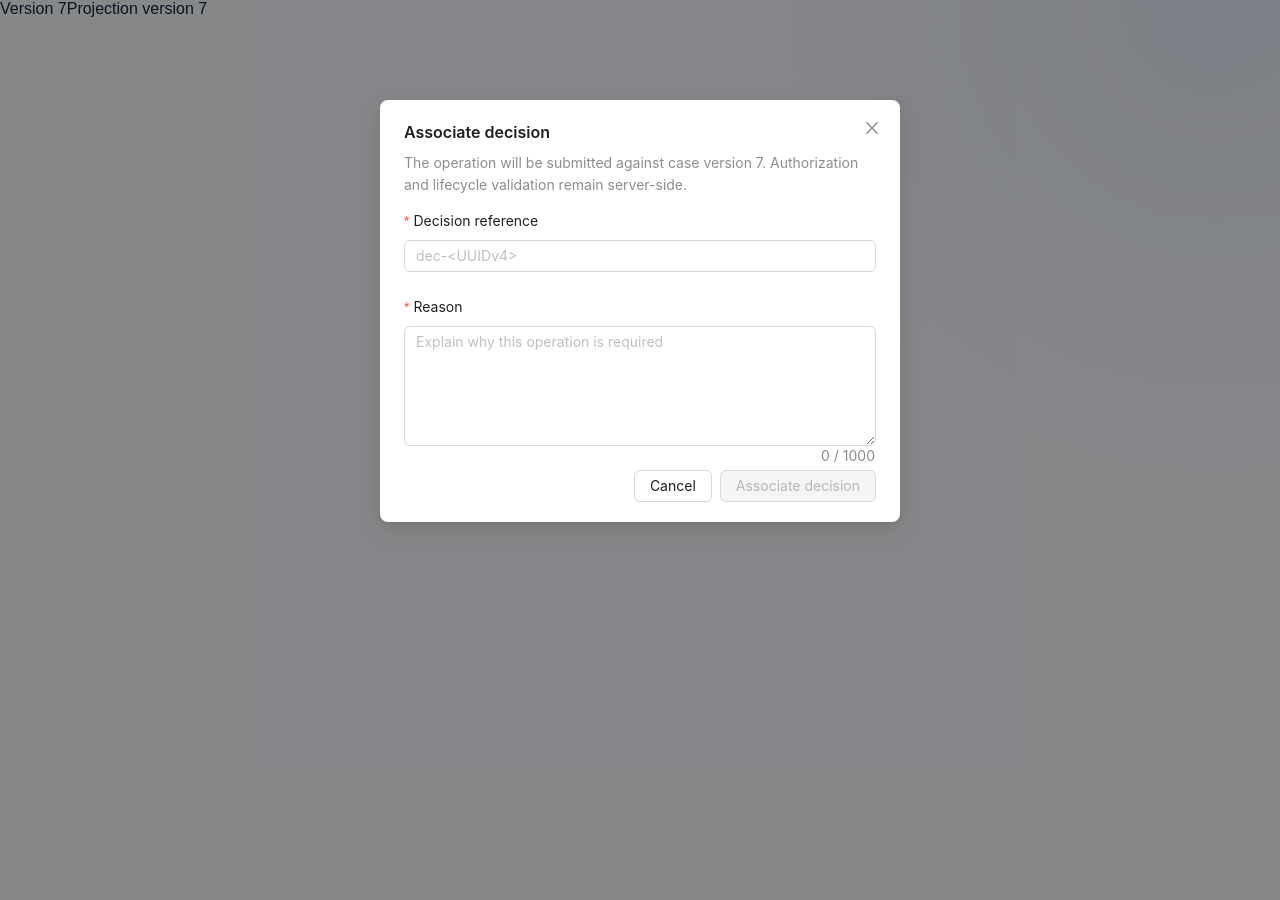
Q-018 association action registry and runner › associateDecision disables submission while its request is pending
This screenshot has width=1280, height=900.
Type "dec-18000000-0000-4000-8000-000000000001" into the field labelled "Decision reference".
click(640, 256); type("dec-18000000-0000-4000-8000-000000000001")  # box [404,240,876,272]
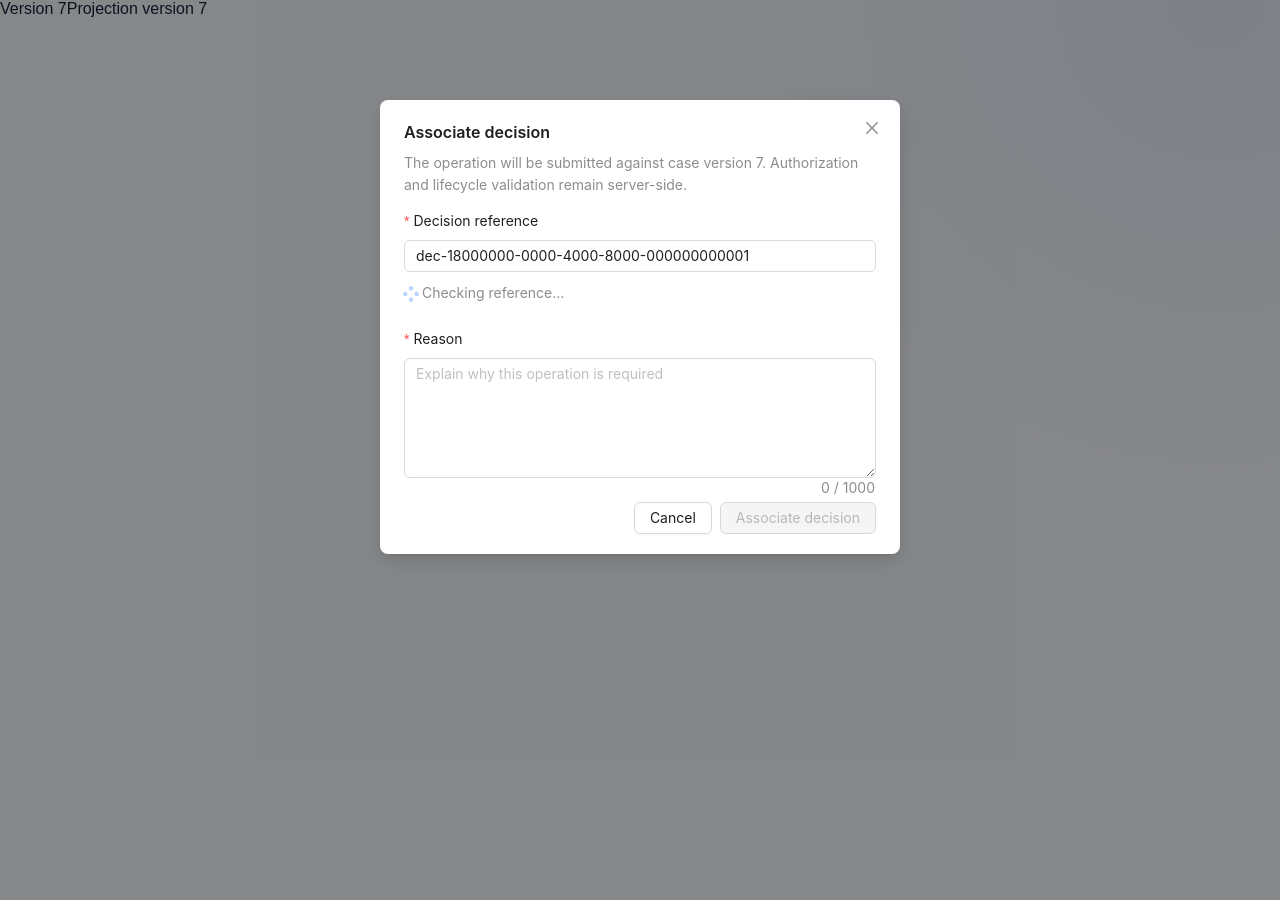
Type "Attach reviewed decision." into the text box labelled "Reason".
click(640, 418); type("Attach reviewed decision.")  # box [405,359,875,477]
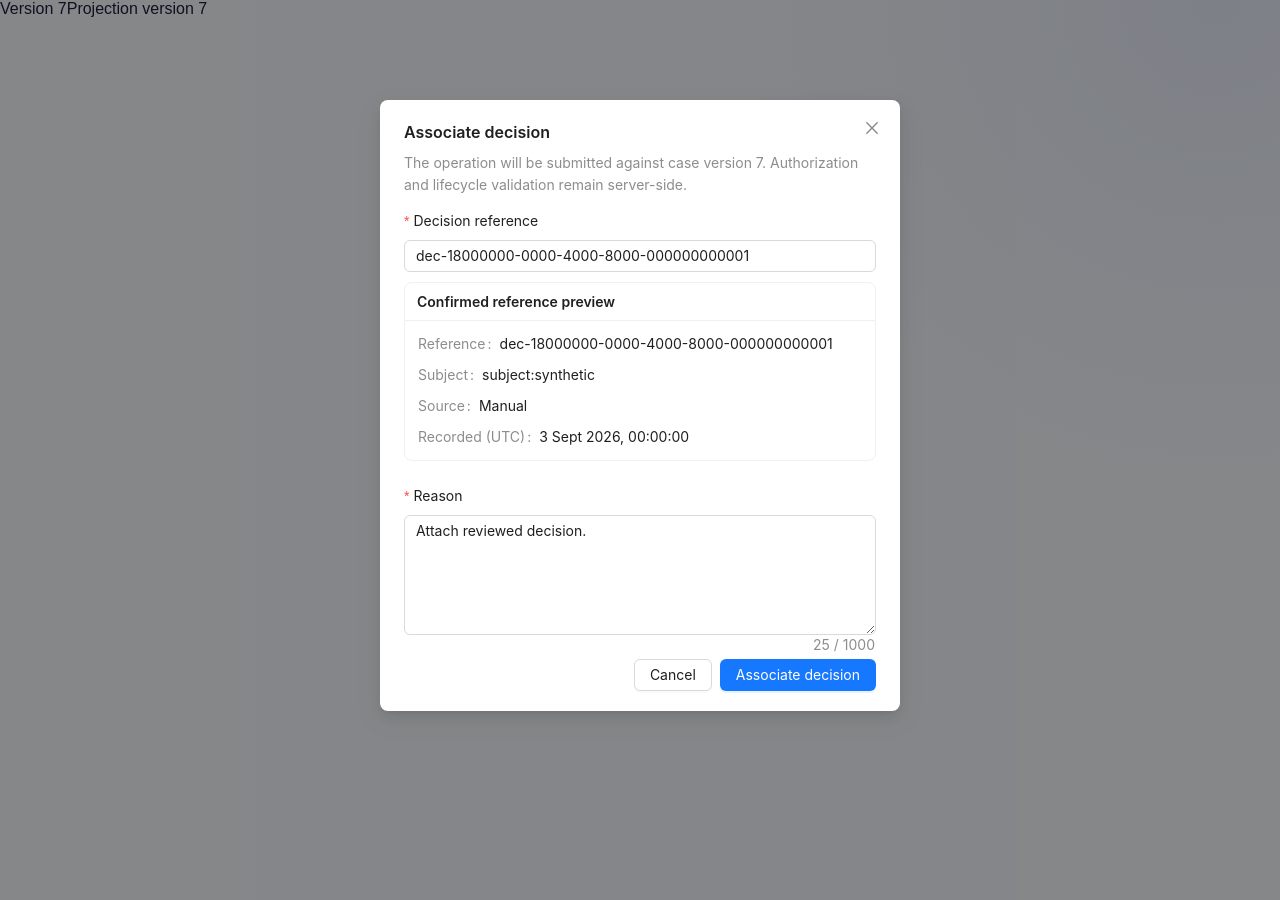
Now the text "Confirmed reference preview" is shown, box [417,292,615,310]
Click the button "Associate decision".
click(798, 675)  # box [720,659,876,691]
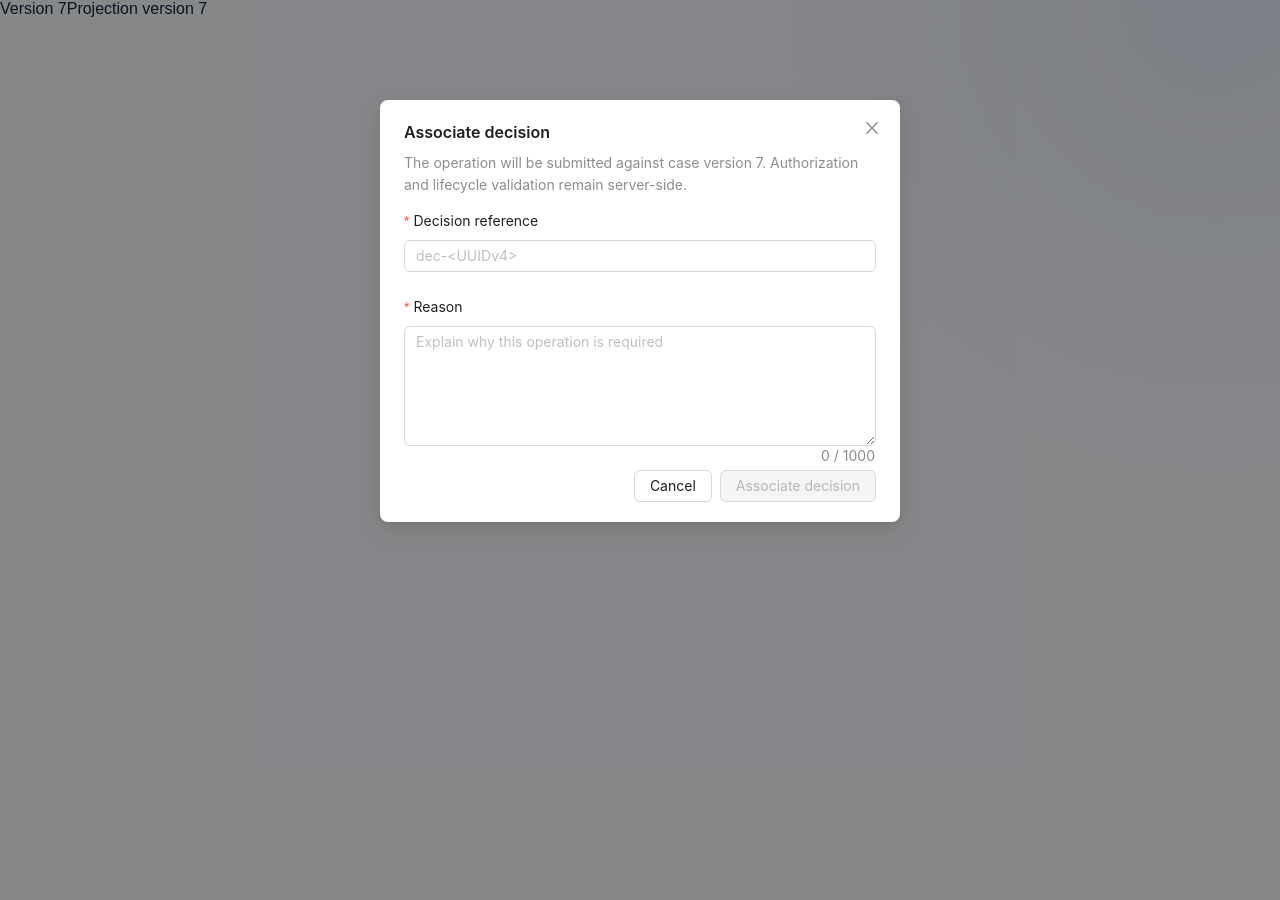
Now the button "Associate decision" is disabled, box [720,470,876,502]
